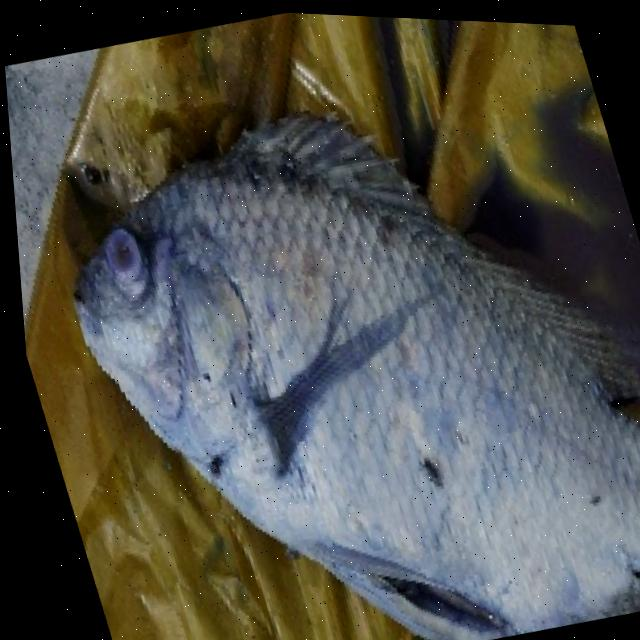Non-Fresh: (226, 266, 553, 531), (85, 212, 184, 320)
